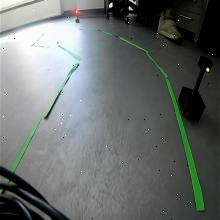green: (198, 55, 213, 74)
